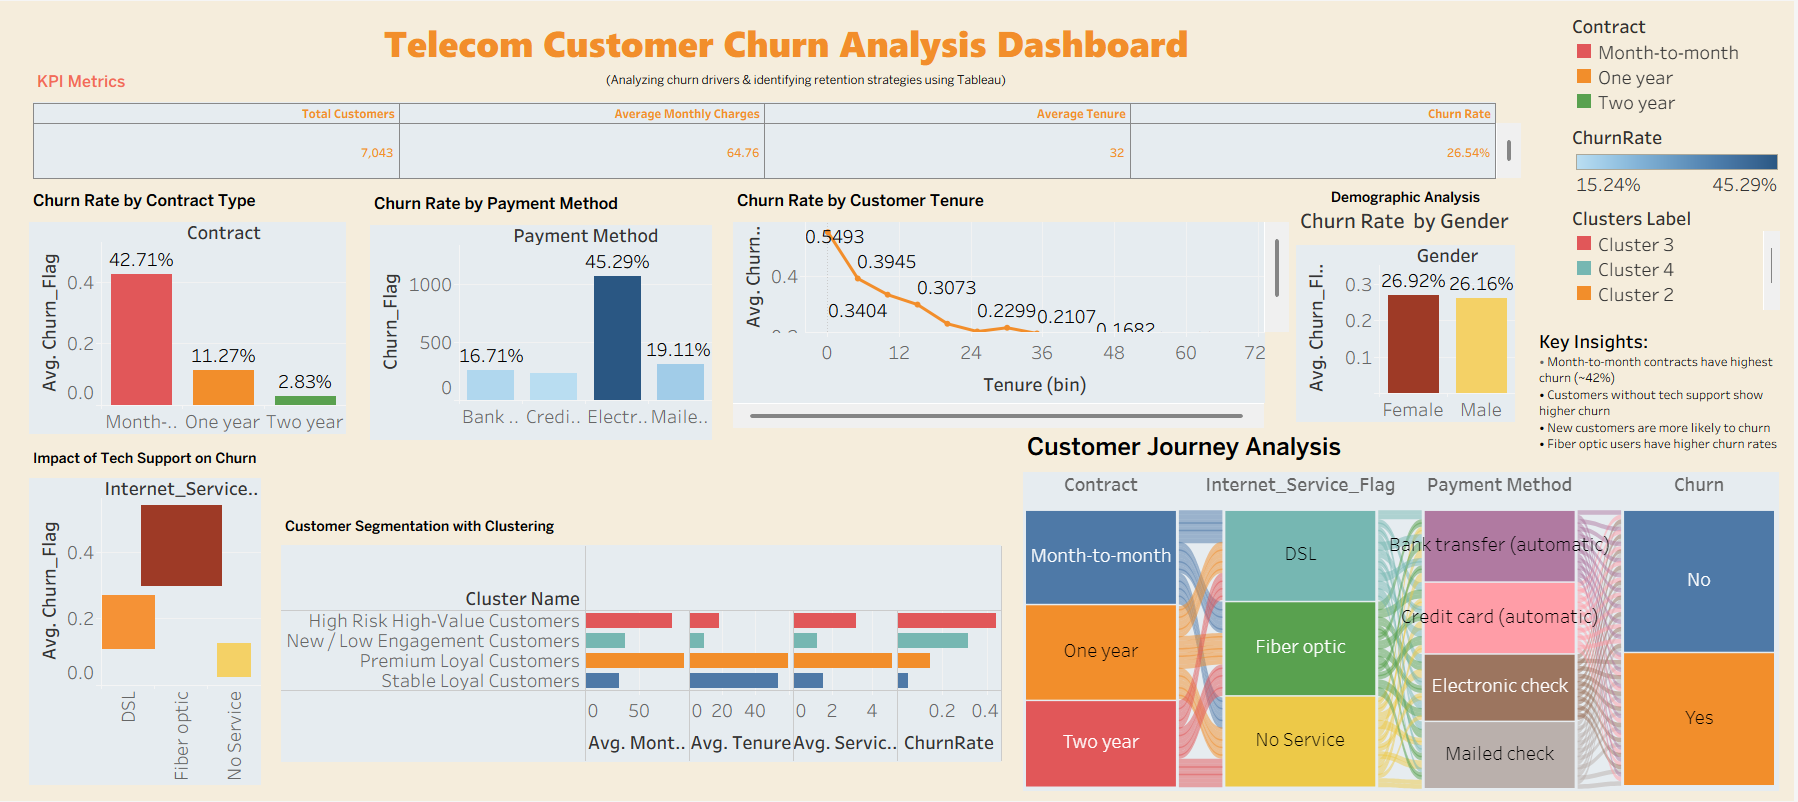

Layout of this report page (visuals, bound fields, positions):
{"tool":"tableau","page":{"name":"Dashboard 1","canvas":[1800,800],"ordinal":0},"visuals":[{"type":"legend","title":"Sheet 3","param":"[federated.0s3br4x0wrp09p14xvrge0z08whz].[none:Contract:nk]","box":[1574,8,218,111]},{"type":"text","box":[38,14,1509,54]},{"type":"text","box":[608,64,409,30]},{"type":"worksheet","title":"Sheet 13","mark":"Automatic","box":[39,67,1488,111]},{"type":"legend","title":"Sheet 6","param":"[federated.0s3br4x0wrp09p14xvrge0z08whz].[usr:Calculation_1657288740814873:qk]","box":[1574,119,218,81]},{"type":"worksheet","title":"Sheet 1","mark":"Automatic","rows":["Calculation_1657288643981313"],"cols":["gender"],"box":[1302,184,219,237]},{"type":"worksheet","title":"Sheet 3","mark":"Automatic","rows":["Calculation_1657288643981313"],"cols":["Contract"],"box":[35,186,317,247]},{"type":"worksheet","title":"Sheet 2","mark":"Line","rows":["Calculation_1657288643981313"],"cols":["Tenure (bin)"],"box":[739,186,556,241]},{"type":"worksheet","title":"Sheet 6","mark":"Automatic","rows":["Calculation_1657288643981313"],"cols":["PaymentMethod"],"box":[376,189,342,250]},{"type":"legend","title":"Sheet 15","param":"[federated.0s3br4x0wrp09p14xvrge0z08whz].[Customer ID (clusters)]","box":[1574,200,218,113]},{"type":"text","box":[1541,320,248,141]},{"type":"worksheet","title":"Sheet 12","box":[1029,427,756,363]},{"type":"worksheet","title":"Sheet 4","mark":"Square","rows":["Calculation_1657288643981313"],"cols":["Calculation_1657288726532108"],"box":[35,445,232,339]},{"type":"worksheet","title":"Sheet 15","mark":"Automatic","rows":["Calculation_1008577293549571"],"cols":["MonthlyCharges","tenure","Calculation_1657288738447384","Calculation_1657288740814873"],"box":[287,513,722,261]}]}

Visuals, with their boxes in screenshot pixels (x1, y1, x2, y2), scaled from the page's 1800x800 canvas onto the 1798x802 screenshot:
"Sheet 3" legend: select_region(1572, 8, 1790, 119)
text: select_region(38, 14, 1545, 68)
text: select_region(607, 64, 1016, 94)
"Sheet 13" worksheet: select_region(39, 67, 1525, 178)
"Sheet 6" legend: select_region(1572, 119, 1790, 200)
"Sheet 1" worksheet: select_region(1301, 184, 1519, 422)
"Sheet 3" worksheet: select_region(35, 186, 352, 434)
"Sheet 2" worksheet (Line marks): select_region(738, 186, 1294, 428)
"Sheet 6" worksheet: select_region(376, 189, 717, 440)
"Sheet 15" legend: select_region(1572, 200, 1790, 314)
text: select_region(1539, 321, 1787, 462)
"Sheet 12" worksheet: select_region(1028, 428, 1783, 792)
"Sheet 4" worksheet (Square marks): select_region(35, 446, 267, 786)
"Sheet 15" worksheet: select_region(287, 514, 1008, 776)
